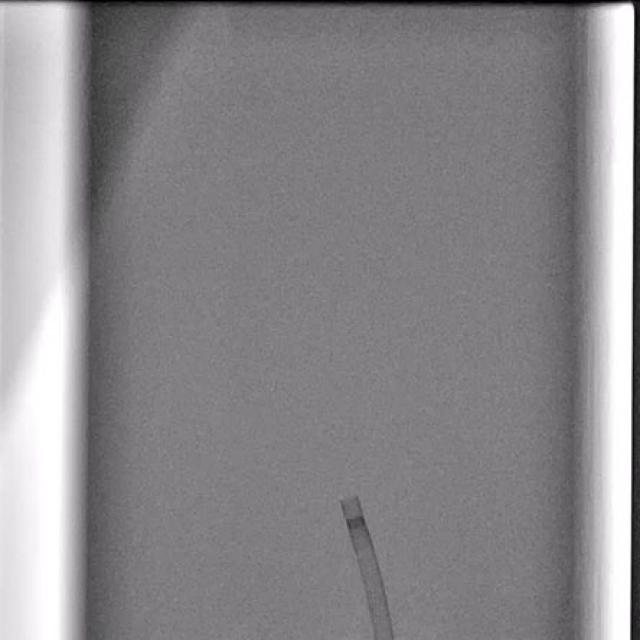entry: (374, 635, 394, 640)
marker: (345, 516, 368, 531)
tip: (339, 496, 360, 504)
